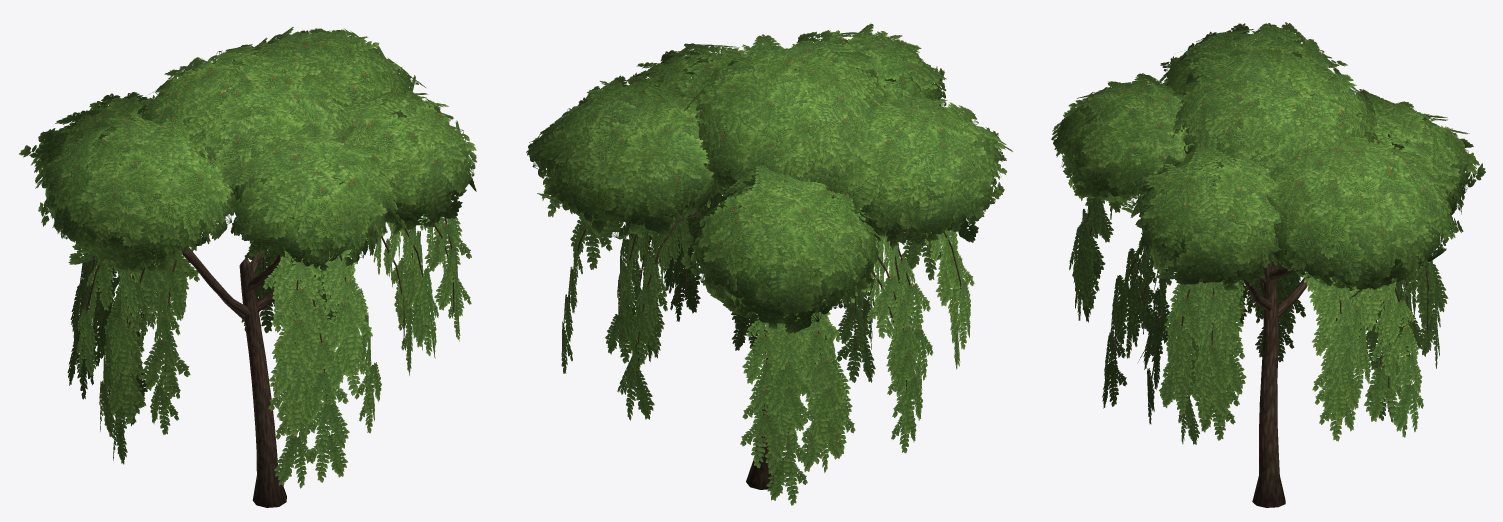
Rendered from keora_a.glb.
3 views of the same model, side by side, from view 1: azimuth 30°, elevation 25°; view 2: azimuth 150°, elevation 25°; view 3: azimuth 270°, elevation 25° (orthographic). The views are drawn at different scales.
Parts seen in each view (by area): view 1: leaves, wood; view 2: leaves, wood; view 3: leaves, wood.
Boxes of the visible parts, x1,y1,x2,y2 form: leaves: (19, 27, 477, 488); wood: (82, 217, 454, 507); leaves: (526, 23, 1012, 505); wood: (568, 192, 961, 489); leaves: (1051, 22, 1485, 444); wood: (1083, 204, 1428, 507).
Bounding box in the file's own units: 7.81 × 7.87 × 7.3.
2 materials, 2 textured.
